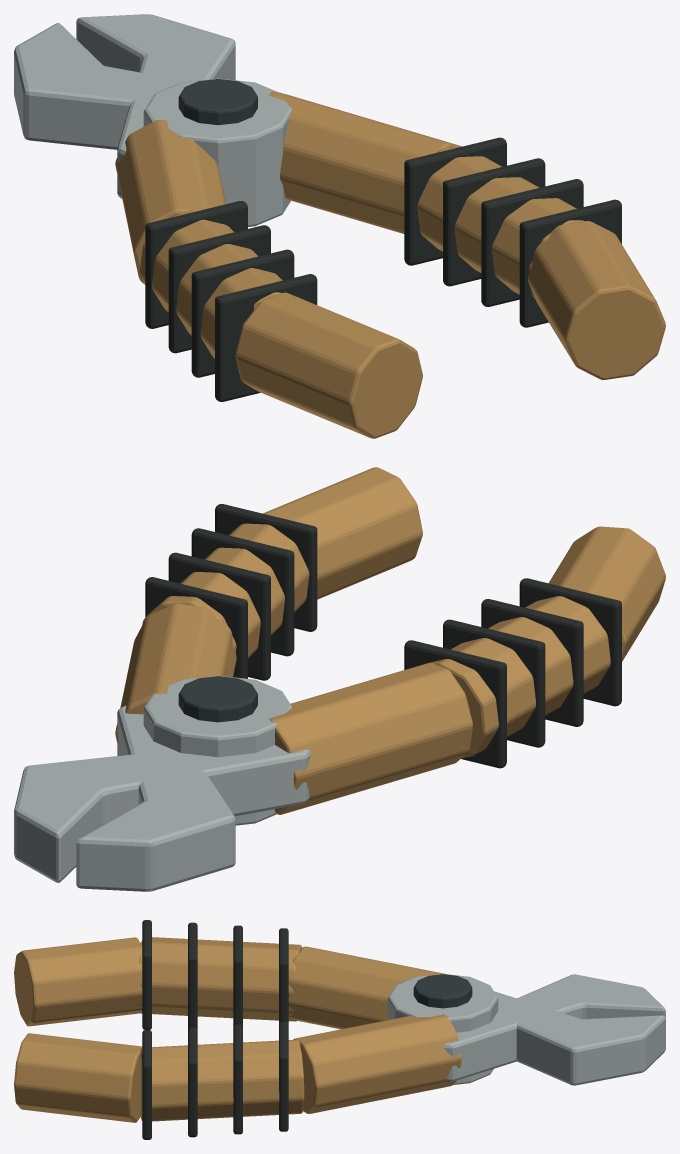
Rendered from cutters.glb.
The picture shows the model from 3 angles, top to bottom: view 1: azimuth 30°, elevation 25°; view 2: azimuth 150°, elevation 25°; view 3: azimuth 270°, elevation 25°; orthographic projection. The views are drawn at different scales.
Visible parts, largest first — view 1: DE_CutterRight, DE_CutterLeft, DE_CutterHinge; view 2: DE_CutterLeft, DE_CutterRight, DE_CutterHinge; view 3: DE_CutterRight, DE_CutterLeft, DE_CutterHinge.
Part boxes in pixels (bbox=[...]): DE_CutterRight: bbox=[14, 23, 665, 379]; DE_CutterLeft: bbox=[76, 14, 422, 438]; DE_CutterHinge: bbox=[143, 78, 291, 226]; DE_CutterLeft: bbox=[14, 526, 665, 882]; DE_CutterRight: bbox=[76, 467, 422, 891]; DE_CutterHinge: bbox=[143, 675, 291, 825]; DE_CutterRight: bbox=[14, 974, 665, 1139]; DE_CutterLeft: bbox=[14, 920, 665, 1085]; DE_CutterHinge: bbox=[387, 974, 498, 1084].
Bounding box in the file's own units: 0.106 × 0.028 × 0.2005.
